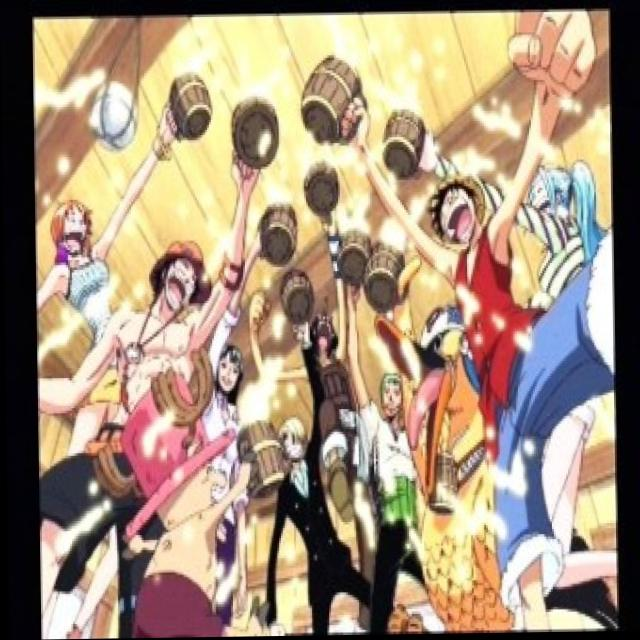Chyopa: (77, 352, 226, 639)
Luffy: (428, 159, 495, 256)
Nami: (44, 193, 109, 266)
NicoRobin: (207, 330, 258, 408)
Sangdi: (277, 414, 307, 471)
Usopp: (307, 287, 342, 363)
Zoro: (376, 368, 406, 430)
